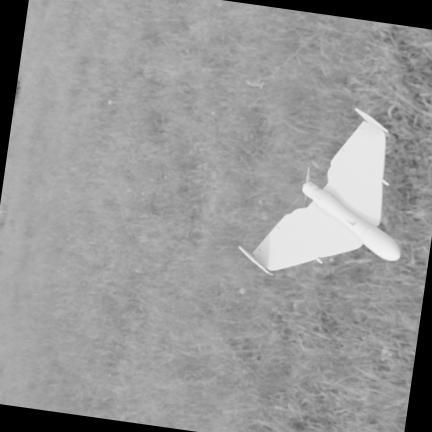Shahed: (239, 107, 399, 273)
